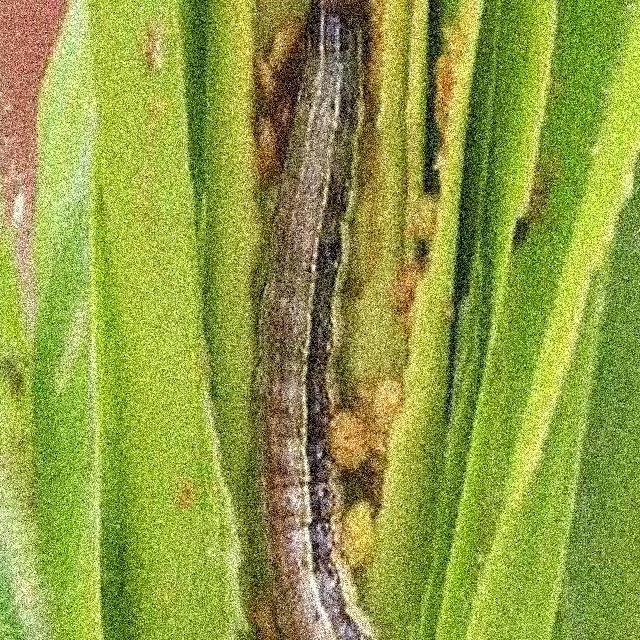gusano_cogollero: (256, 0, 380, 640)
